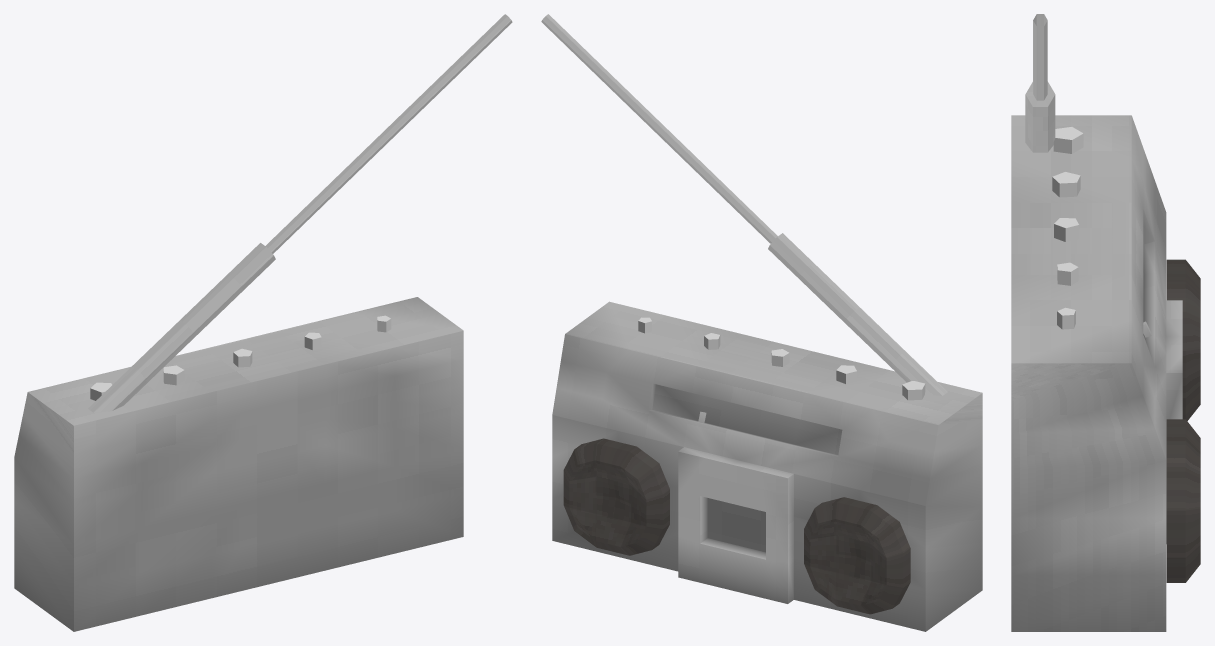
Rendered from boombox.glb.
The picture shows the model from 3 angles, left to right: view 1: azimuth 30°, elevation 25°; view 2: azimuth 150°, elevation 25°; view 3: azimuth 270°, elevation 25°; orthographic projection. The views are drawn at different scales.
Visible parts, largest first — view 1: Cube, Cylinder.001, Cylinder; view 2: Cube, Plane, Cylinder.001, Cylinder; view 3: Cube, Plane, Cylinder.001, Cylinder.
Boxes of the visible parts, x1,y1,x2,y2 form: Cube: [14, 297, 463, 631]; Cylinder.001: [88, 14, 512, 412]; Cylinder: [90, 315, 391, 400]; Cube: [552, 301, 982, 631]; Plane: [563, 438, 910, 614]; Cylinder.001: [541, 14, 947, 395]; Cylinder: [638, 317, 925, 400]; Cube: [1011, 115, 1182, 631]; Plane: [1166, 259, 1200, 582]; Cylinder.001: [1025, 14, 1055, 152]; Cylinder: [1052, 127, 1083, 329].
Bounding box in the file's own units: 3.66 × 3.9 × 1.03.
Materials: 2 (2 with a texture image).
